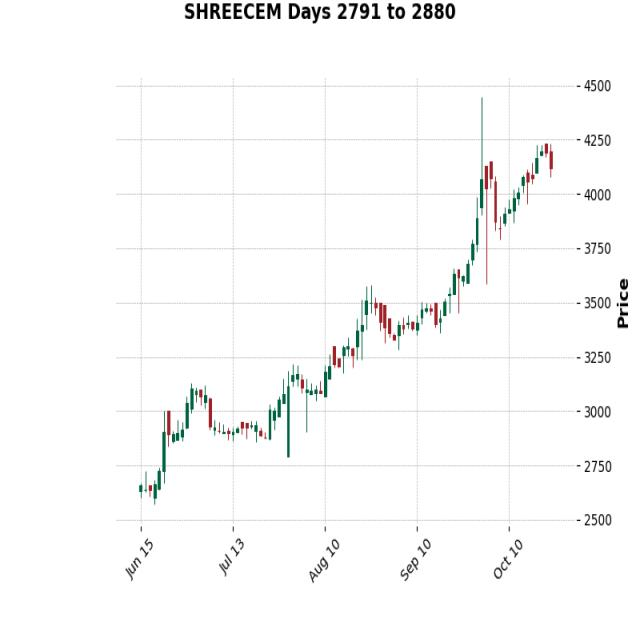Triple Bottom Reversal: (127, 333, 366, 504)
